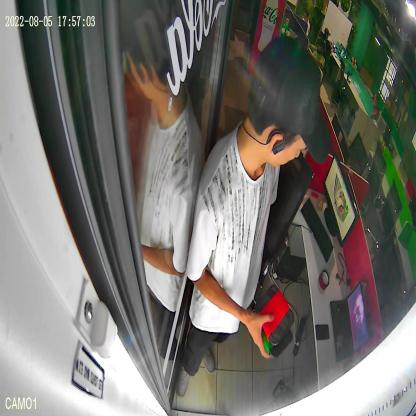green: (253, 304, 294, 360)
red: (255, 283, 296, 347)
